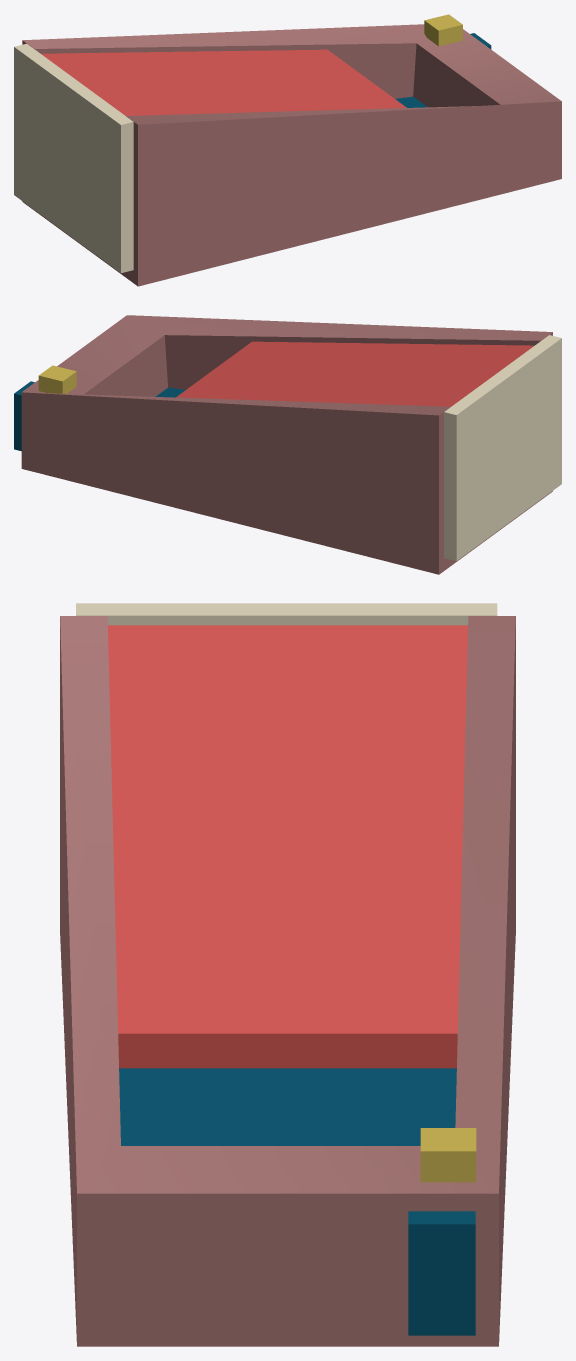
The model's file is ramp.fbx.
3 views of the same model, one above another, from view 1: azimuth 30°, elevation 25°; view 2: azimuth 150°, elevation 25°; view 3: azimuth 270°, elevation 25° (orthographic). The views are drawn at different scales.
Visible parts, largest first — view 1: pCube15, pCube19, pCube18, pCube16; view 2: pCube15, pCube19, pCube18, pCube16, pCube17; view 3: pCube15, pCube18, pCube19, pCube17, pCube16.
Part boxes in pixels (<box>): pCube15: <box>22,24,561,286</box>; pCube19: <box>14,43,133,273</box>; pCube18: <box>41,49,406,115</box>; pCube16: <box>424,14,462,46</box>; pCube15: <box>21,315,552,574</box>; pCube19: <box>444,335,561,560</box>; pCube18: <box>176,341,534,406</box>; pCube16: <box>38,365,76,393</box>; pCube17: <box>14,381,34,451</box>; pCube15: <box>60,616,515,1346</box>; pCube18: <box>108,625,467,1068</box>; pCube19: <box>76,603,497,625</box>; pCube17: <box>408,1211,475,1335</box>; pCube16: <box>420,1128,476,1182</box>.
Size of the model in its own units: 0.1181 by 0.0402 by 0.052.
